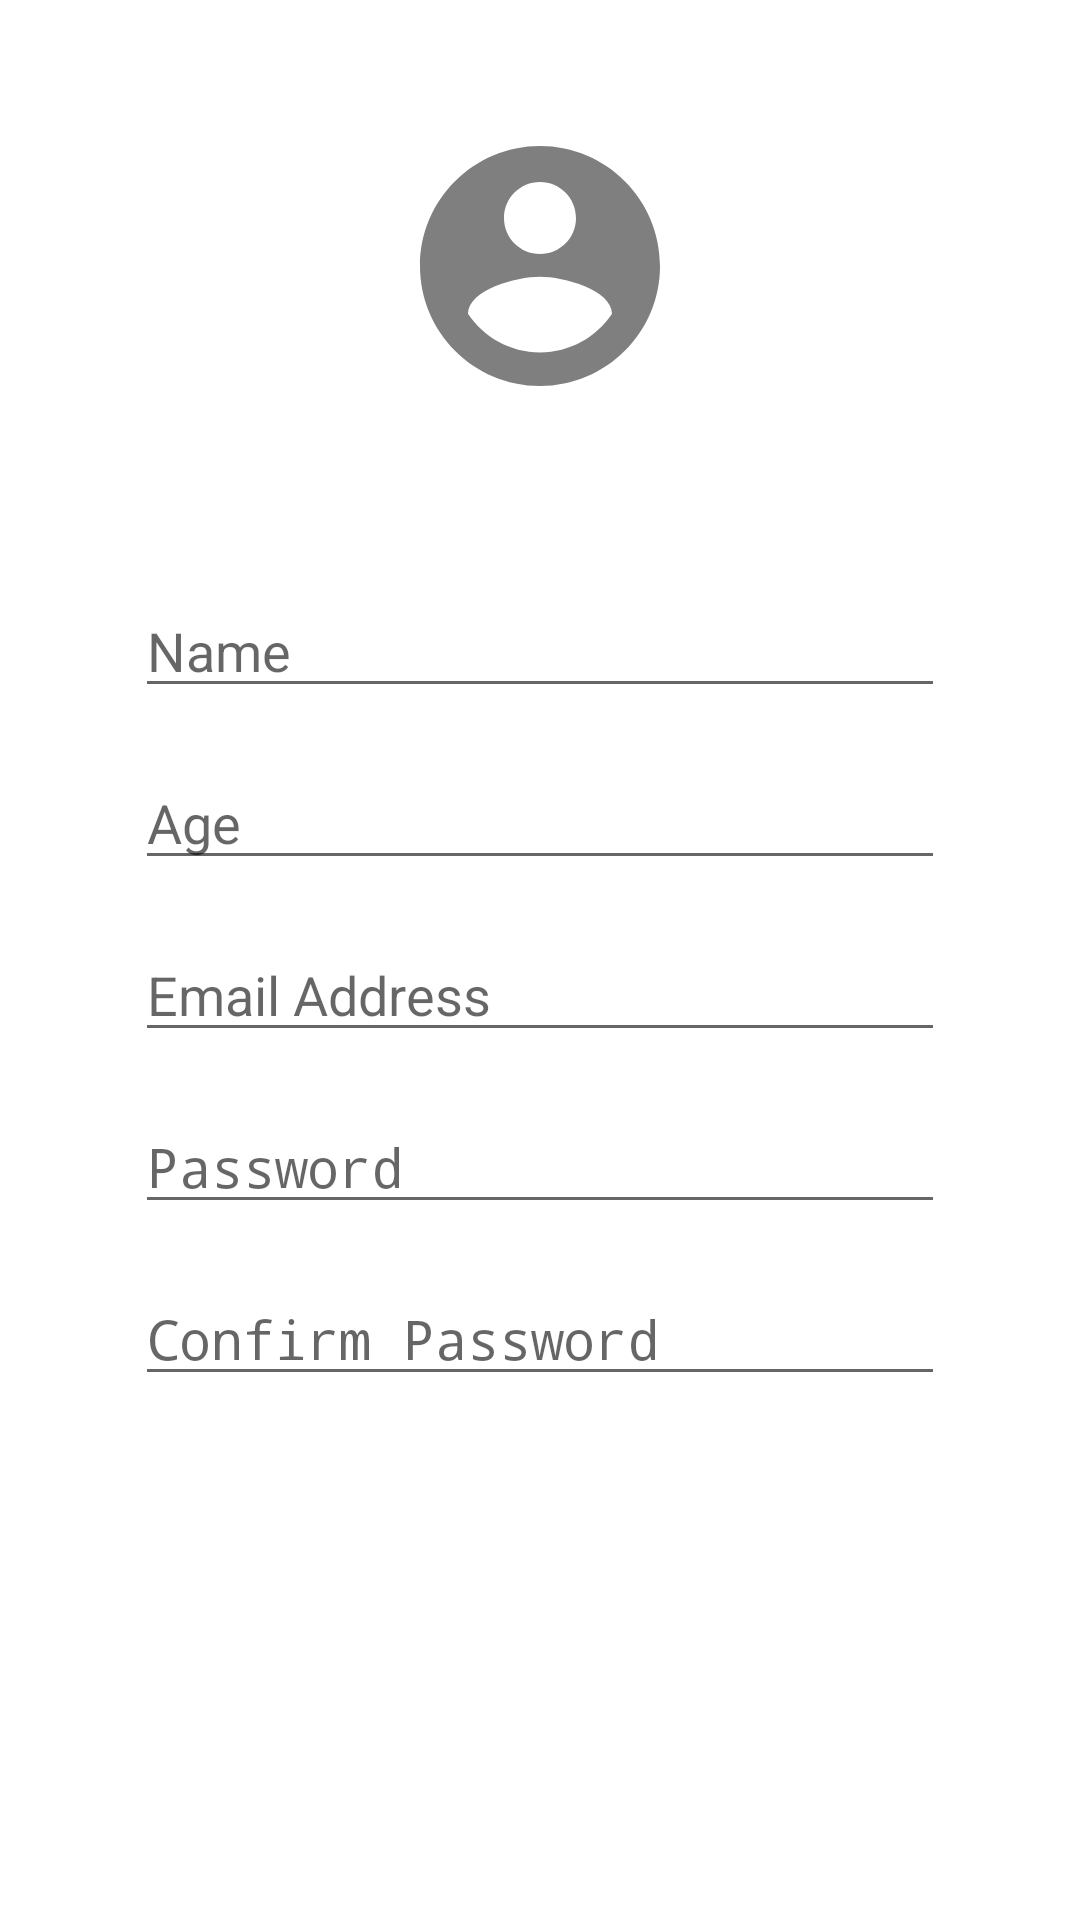

Icons on this 1080px x 1920px Android screen, each with the point to tap as (x,y):
account circle: (540,266)
